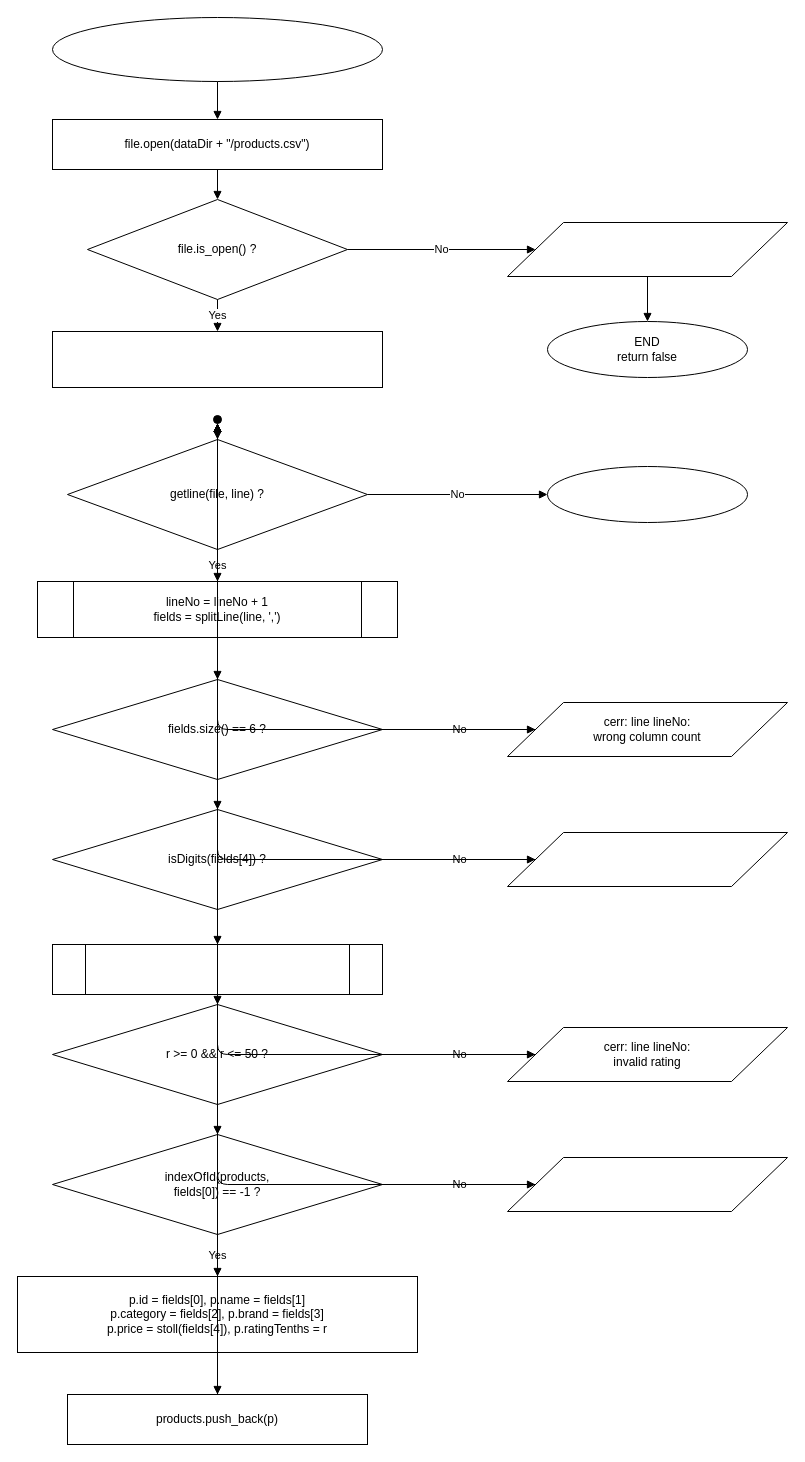
Image size: 805x1462. Some labels were removed from this diagram. Here are the shapes that lost their labels. From the top down, the box of each, then its label:
(52, 16, 382, 82): START loadProducts(dataDir, products)
(506, 222, 788, 276): cerr << "Cannot open products.csv"
(52, 330, 382, 388): getline(file, line) // skip header lineNo = 1
(546, 466, 748, 522): END return true
(506, 832, 788, 886): cerr: line lineNo: invalid price
(52, 944, 382, 994): r = toTenths(fields[5])
(506, 1156, 788, 1212): cerr: line lineNo: duplicate id, keep first
